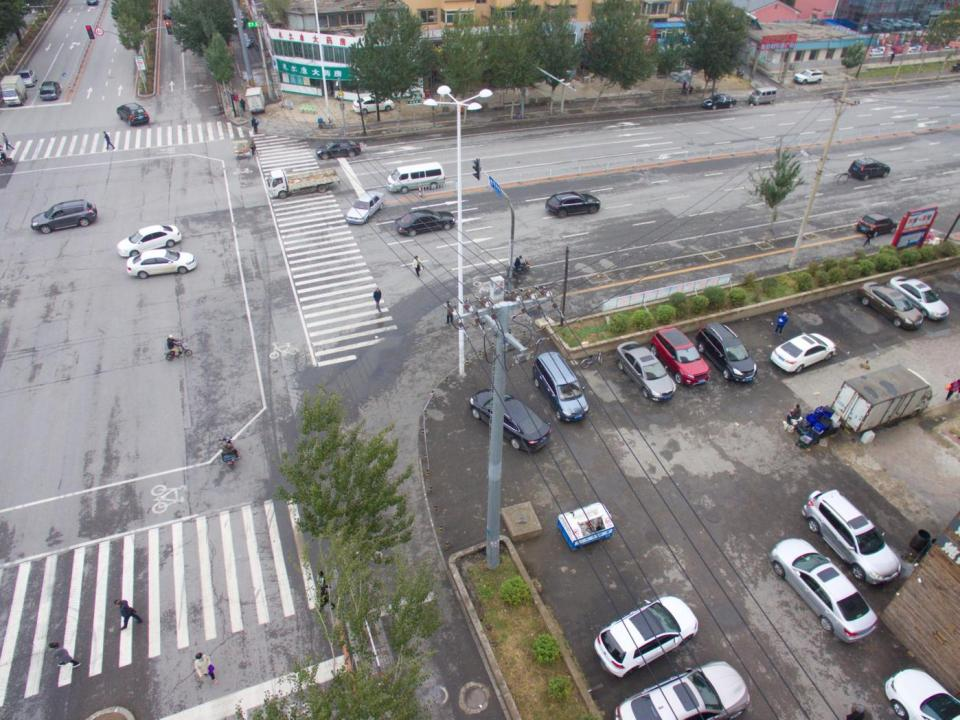car: (768, 538, 880, 640), (803, 490, 904, 588), (591, 597, 700, 679), (615, 661, 751, 719), (470, 388, 550, 454), (648, 326, 713, 388), (616, 339, 680, 400), (885, 667, 958, 719), (698, 322, 757, 384), (860, 279, 924, 331), (771, 334, 837, 375), (889, 278, 949, 320), (30, 198, 97, 233), (126, 250, 197, 279), (118, 226, 180, 256), (392, 210, 454, 234), (348, 188, 385, 227), (546, 191, 600, 216), (850, 157, 890, 183), (856, 214, 897, 234), (117, 101, 151, 124), (317, 142, 361, 158), (700, 93, 737, 110), (792, 70, 824, 86), (39, 80, 63, 99), (16, 70, 38, 88), (868, 49, 884, 62), (239, 34, 253, 48), (902, 45, 920, 55), (162, 7, 175, 20), (232, 18, 245, 31), (912, 42, 930, 50), (928, 42, 943, 51), (237, 10, 249, 21), (878, 46, 894, 54), (892, 45, 904, 55)
truck: (830, 366, 932, 437)
van: (531, 351, 588, 423), (266, 168, 340, 200), (388, 162, 446, 193), (0, 72, 30, 105), (245, 86, 265, 119), (748, 85, 777, 105)
